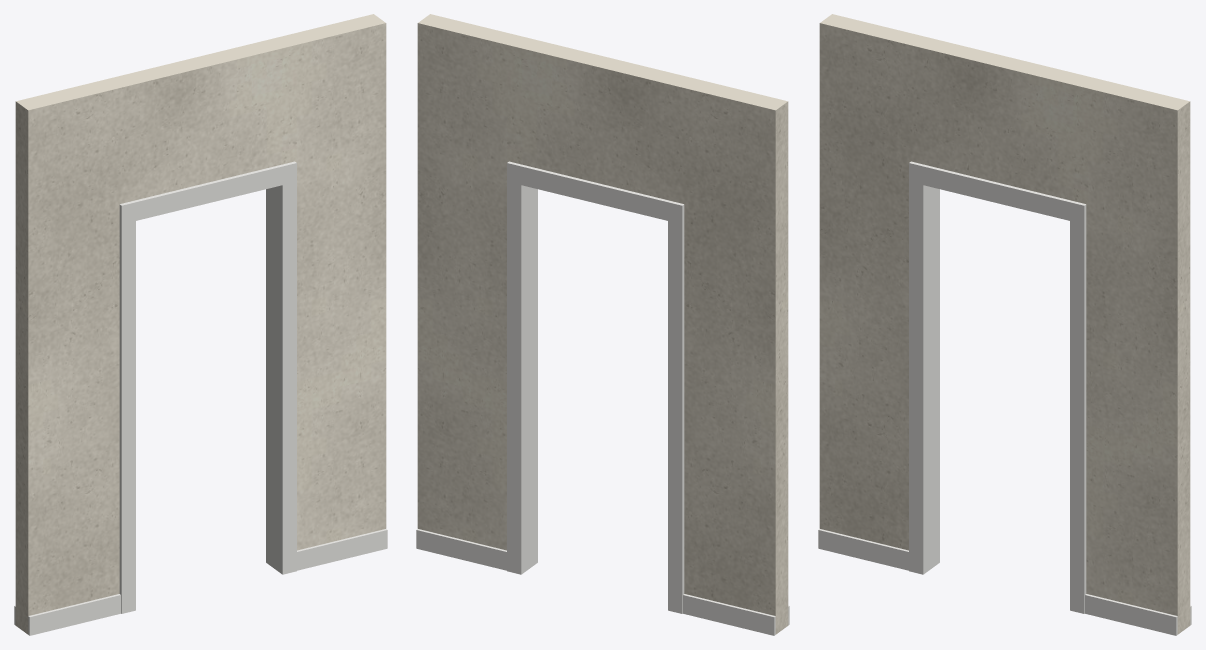
Rendered from interior_wall_doorway.glb.
3 views of the same model, side by side, from view 1: azimuth 30°, elevation 25°; view 2: azimuth 150°, elevation 25°; view 3: azimuth 330°, elevation 25° (orthographic).
Parts seen in each view (by area): view 1: interior_wall_doorway_plaster, interior_wall_doorway_frame, interior_wall_doorway_trim; view 2: interior_wall_doorway_plaster, interior_wall_doorway_frame, interior_wall_doorway_trim; view 3: interior_wall_doorway_plaster, interior_wall_doorway_frame, interior_wall_doorway_trim.
Boxes of the visible parts, left/top/right/bottom form: interior_wall_doorway_plaster: left=15, top=14, right=386, bottom=634; interior_wall_doorway_frame: left=119, top=161, right=296, bottom=613; interior_wall_doorway_trim: left=14, top=529, right=387, bottom=635; interior_wall_doorway_plaster: left=417, top=14, right=788, bottom=634; interior_wall_doorway_frame: left=507, top=161, right=684, bottom=613; interior_wall_doorway_trim: left=416, top=529, right=789, bottom=635; interior_wall_doorway_plaster: left=819, top=14, right=1190, bottom=634; interior_wall_doorway_frame: left=909, top=161, right=1086, bottom=613; interior_wall_doorway_trim: left=818, top=529, right=1191, bottom=635.
Size of the model in its own units: 2 by 2.8 by 0.16.
3 materials, 1 textured.
